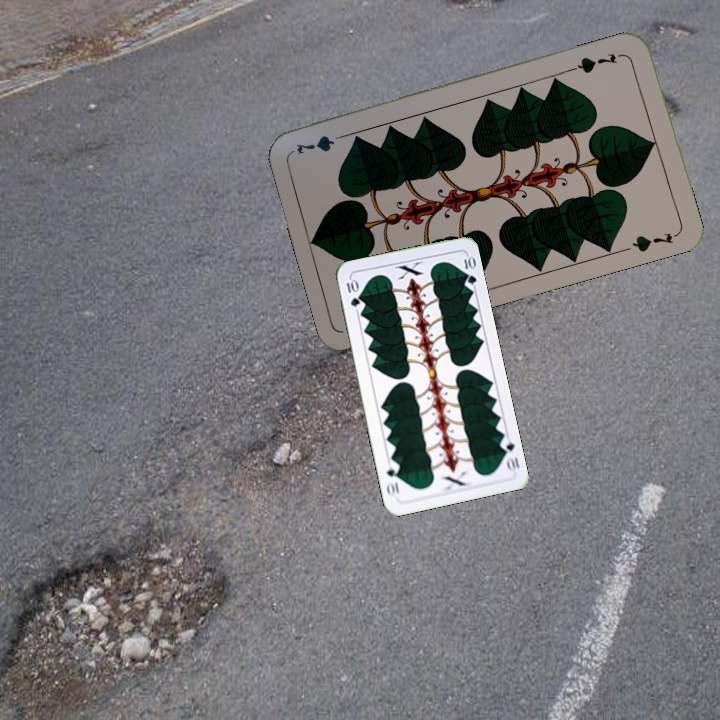G10: (496, 433, 522, 475), (342, 275, 362, 309)
G7: (569, 49, 627, 76)
